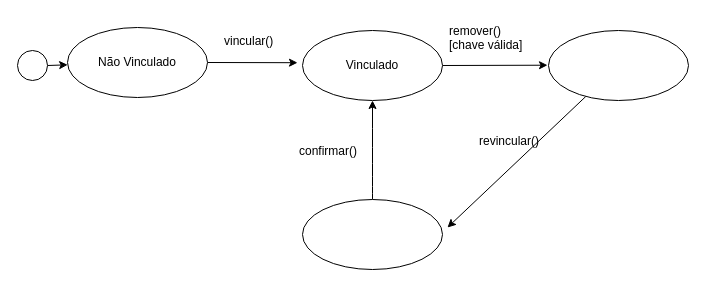
This 706x287 diagram has some shape labels left out. Here are the shapes that lost their labels. From the top down, the centre of each, then its label:
At (x=618, y=65): "Removido".
At (x=372, y=234): "Re-vinculado".
